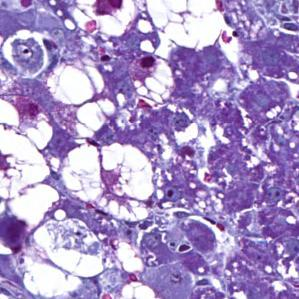ballooning: (4, 95, 64, 265), (59, 138, 158, 224), (30, 213, 110, 280), (141, 4, 231, 54), (43, 52, 108, 109), (125, 49, 177, 111)
